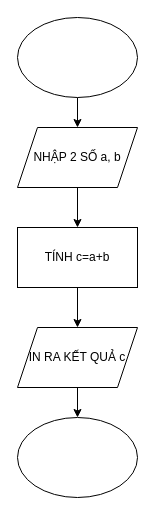
The diagram is 155 pixels wide and 515 high, and some of its shapes have lost their labels. Each missing label, with the centre of its shape:
"BẮT ĐẦU" goes at (x=77, y=57).
"END" goes at (x=77, y=457).
